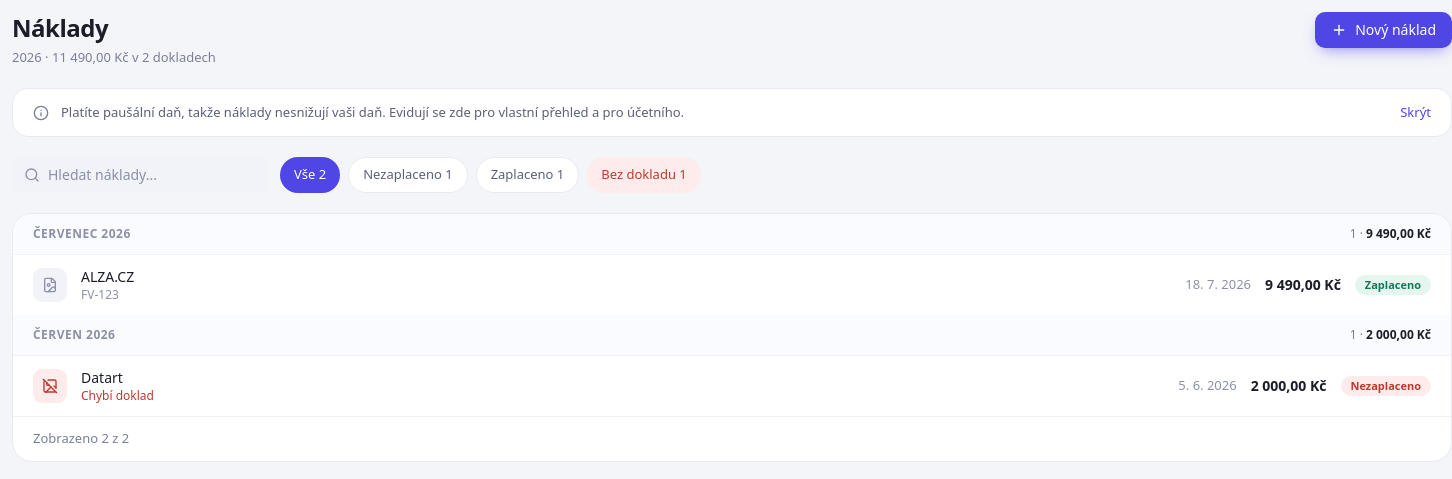
Scenario: Expenses › shows the flat-rate banner and hides it after dismissal
The image size is (1452, 479).
Expected: the text "ALZA.CZ" is shown, [81,267,134,286]
Expected: the text "paušální daň" is shown, [61,102,684,120]
Click the button "Skrýt".
click(1416, 112)  # box [1400,102,1431,122]
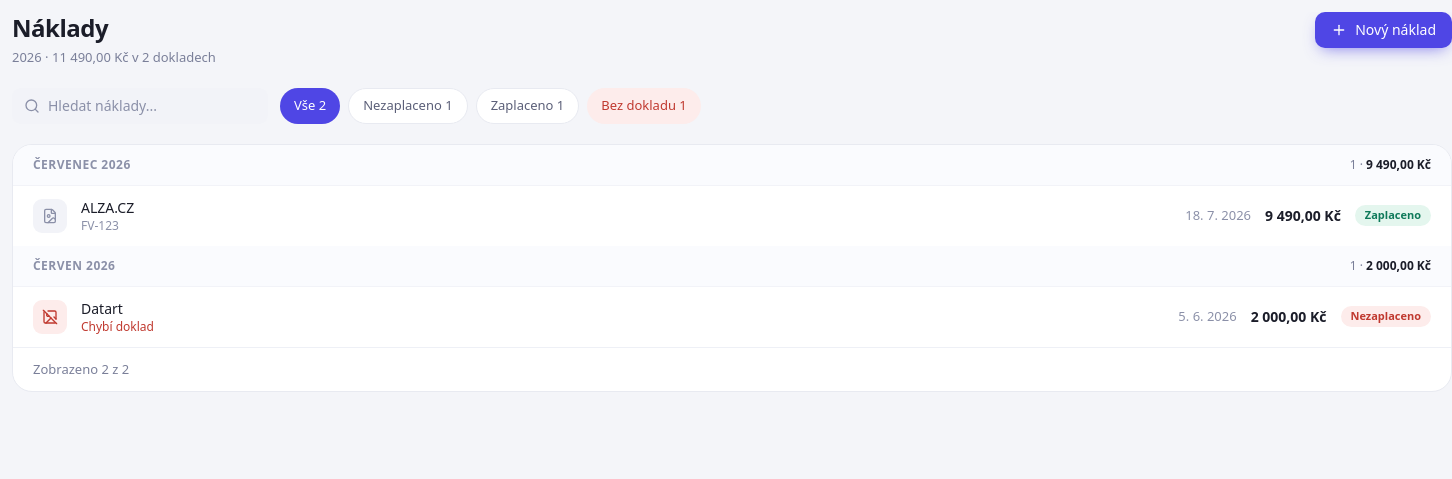
Expected: the text "Platíte paušální daň" is gone
